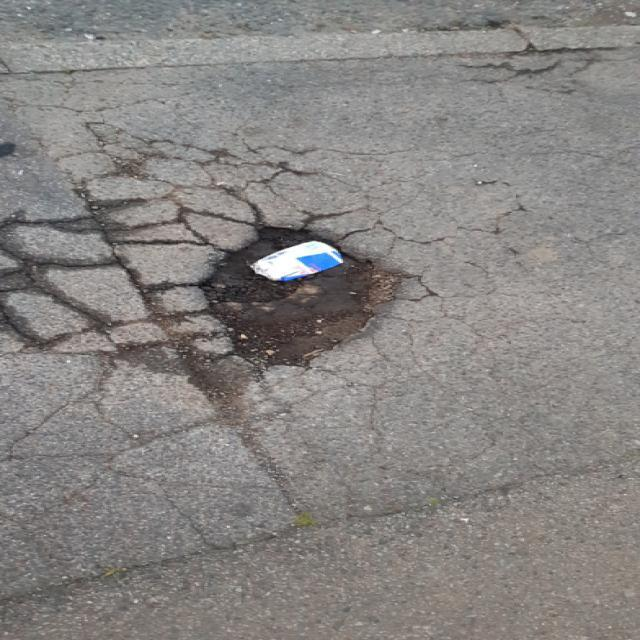Pothole: (184, 217, 408, 371)
